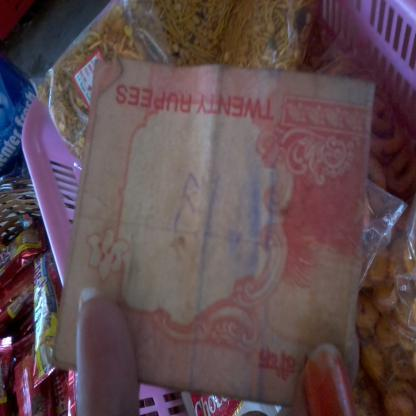Old20Back: (81, 65, 358, 401)
